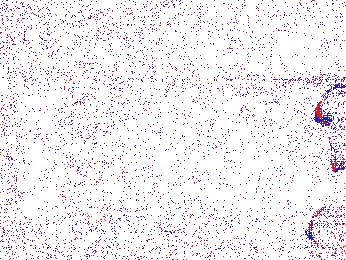flame jellyfish: (316, 85, 346, 171), (85, 199, 136, 246), (305, 204, 346, 250)
